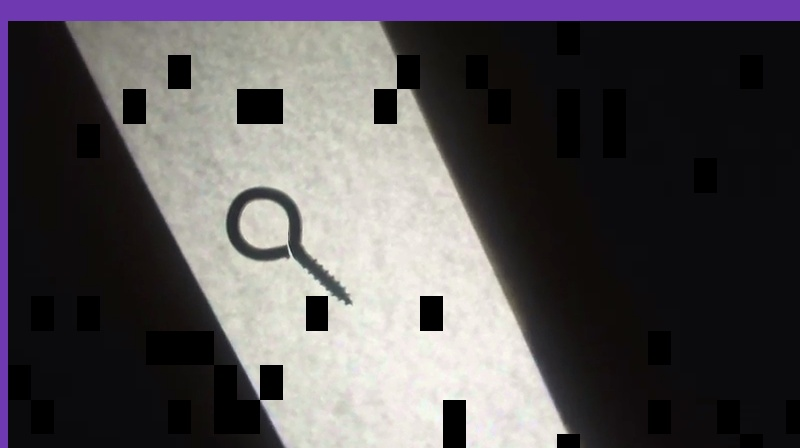O001: (220, 183, 353, 305)
